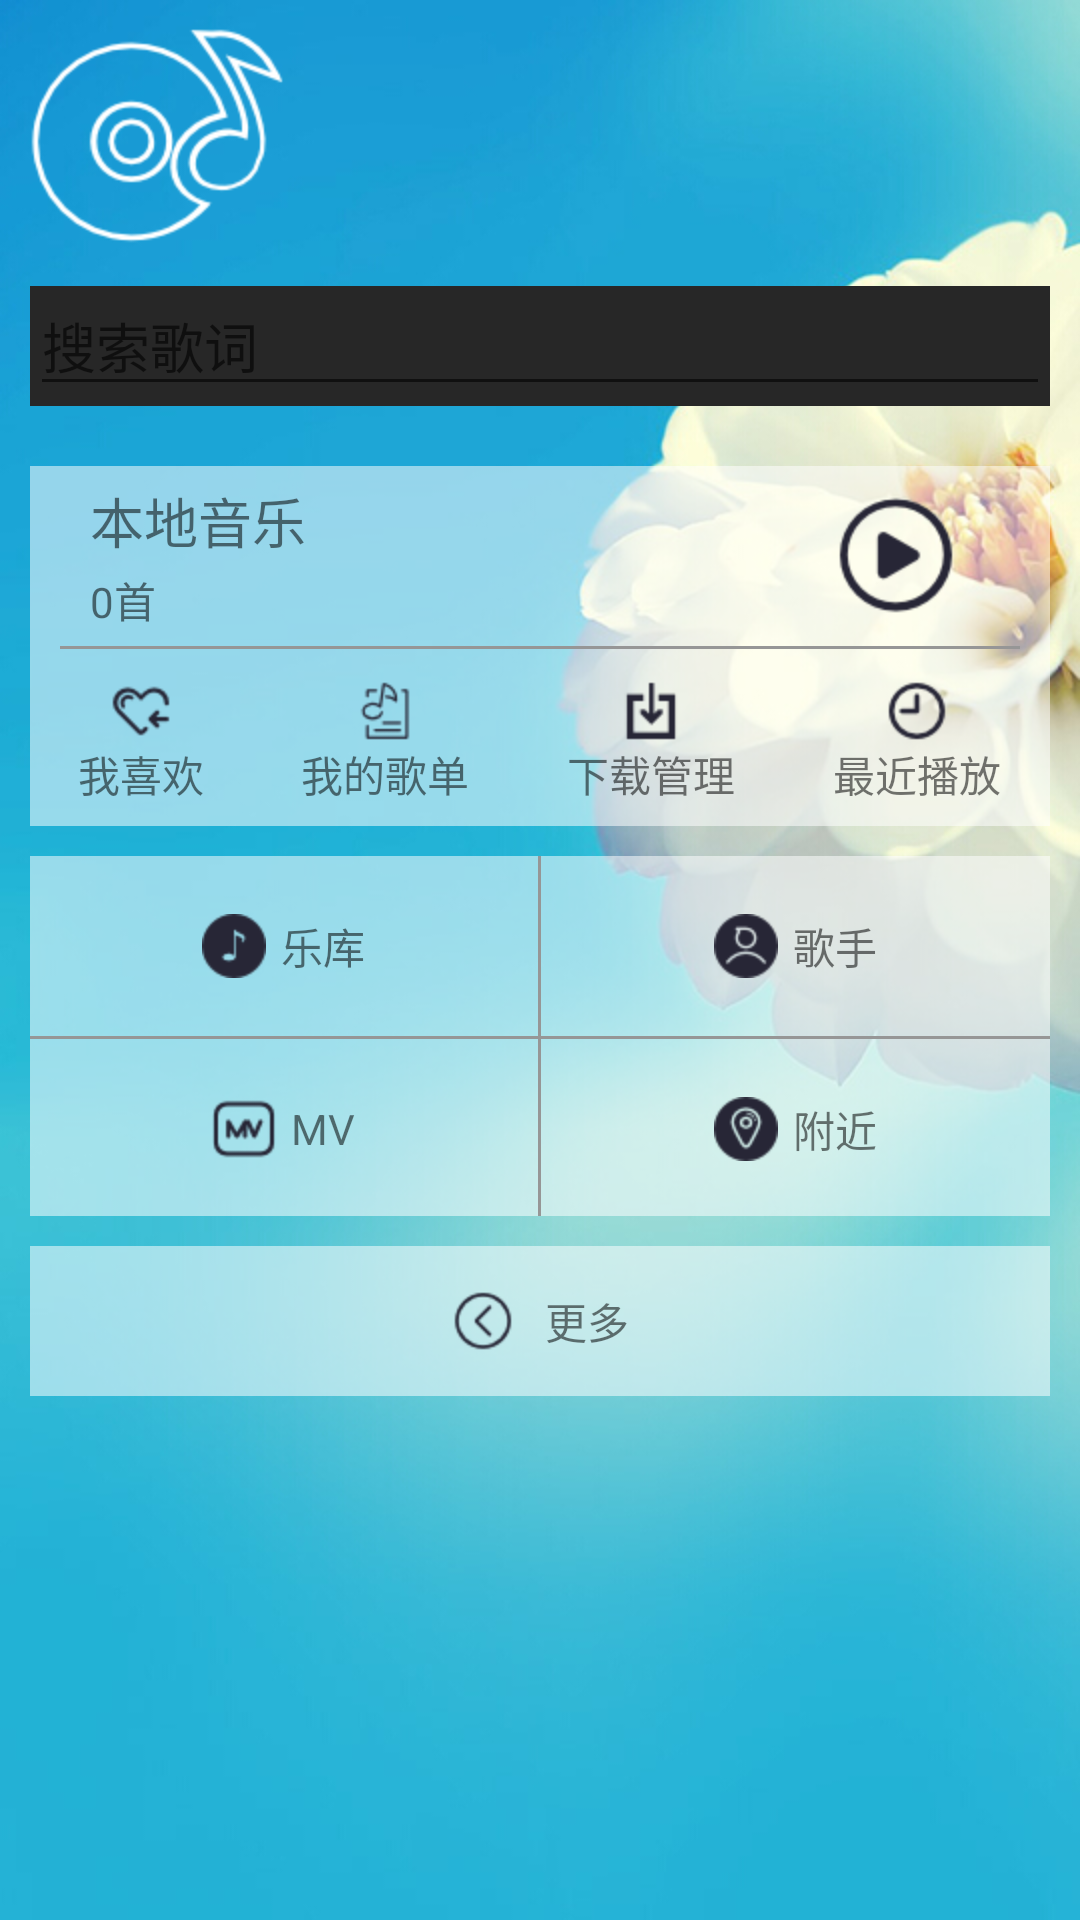

Icons on this 1080w x 1920h Android screen, each with its box as [x1=x1, y1=y1, x2=x2, y2=y2]:
play: [x1=839, y1=492, x2=960, y2=613]
